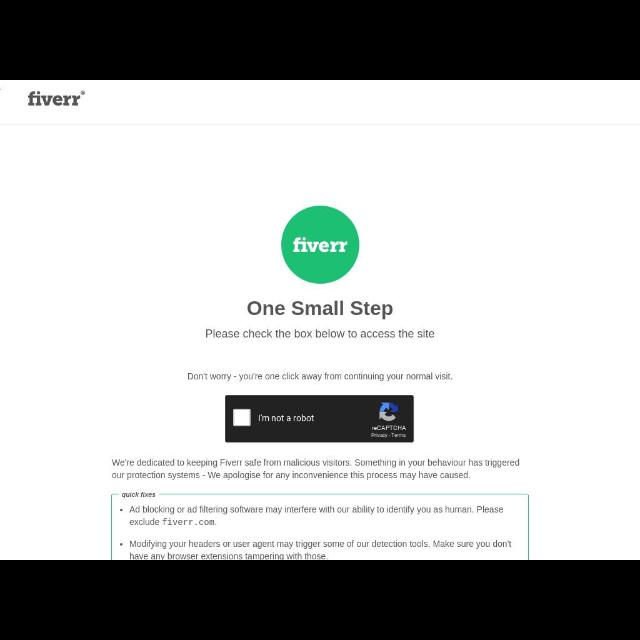checkbox: (233, 408, 251, 428)
image: (277, 206, 361, 286), (371, 402, 407, 438), (28, 90, 86, 108)
panel: (223, 394, 414, 444)
text: (112, 458, 520, 482), (128, 504, 506, 528), (128, 539, 522, 559), (186, 371, 452, 384), (247, 300, 395, 322), (204, 327, 436, 339), (255, 412, 315, 424), (122, 492, 156, 498)
